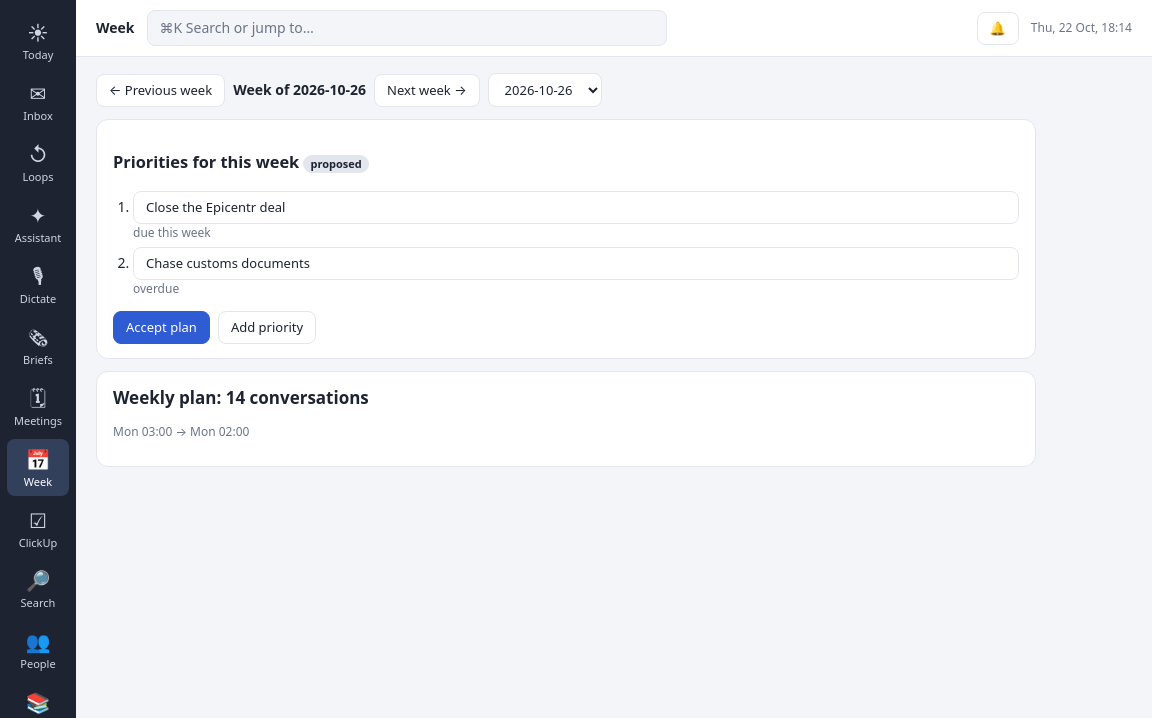
Test: last week's review and plan are shown and the plan can be accepted
The width and height of the screenshot is (1152, 718).
Expected: the field showing "Close the Epicentr deal" is shown, [133,191,1019,224]
Click the button "Accept plan": (161, 328) [113,311,210,344]
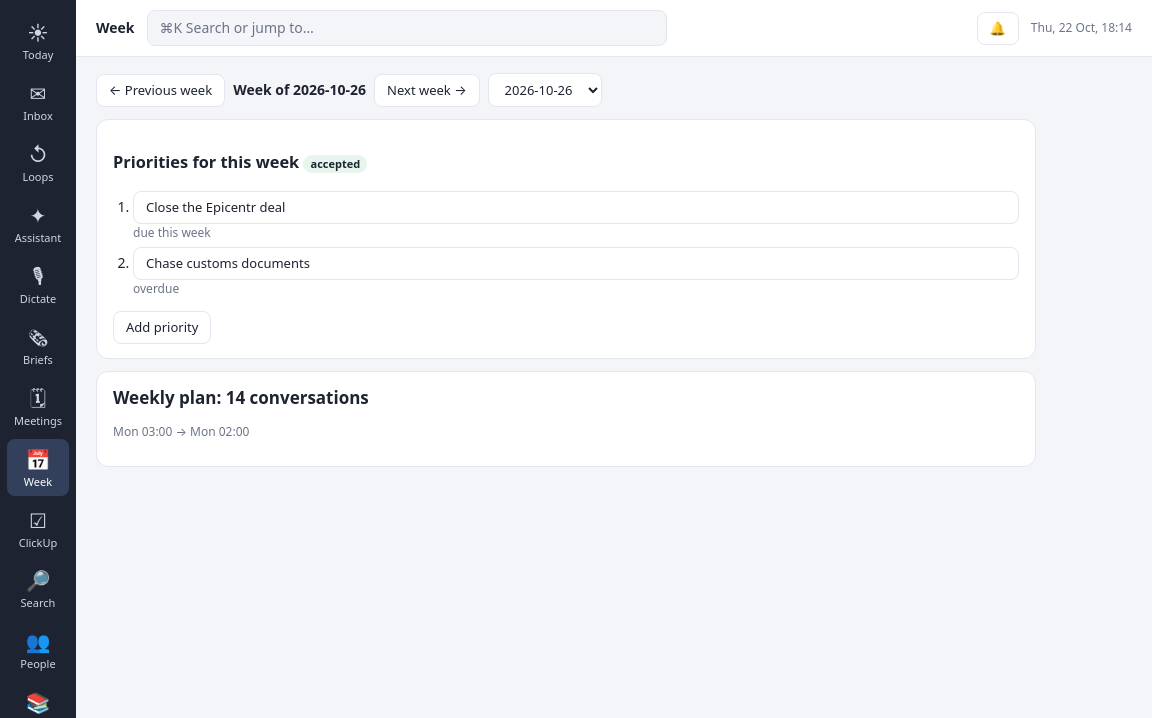
Expected: the text "accepted" is shown, [304,155,367,173]
Click the button "← Previous week": (161, 90) [96,74,225,107]
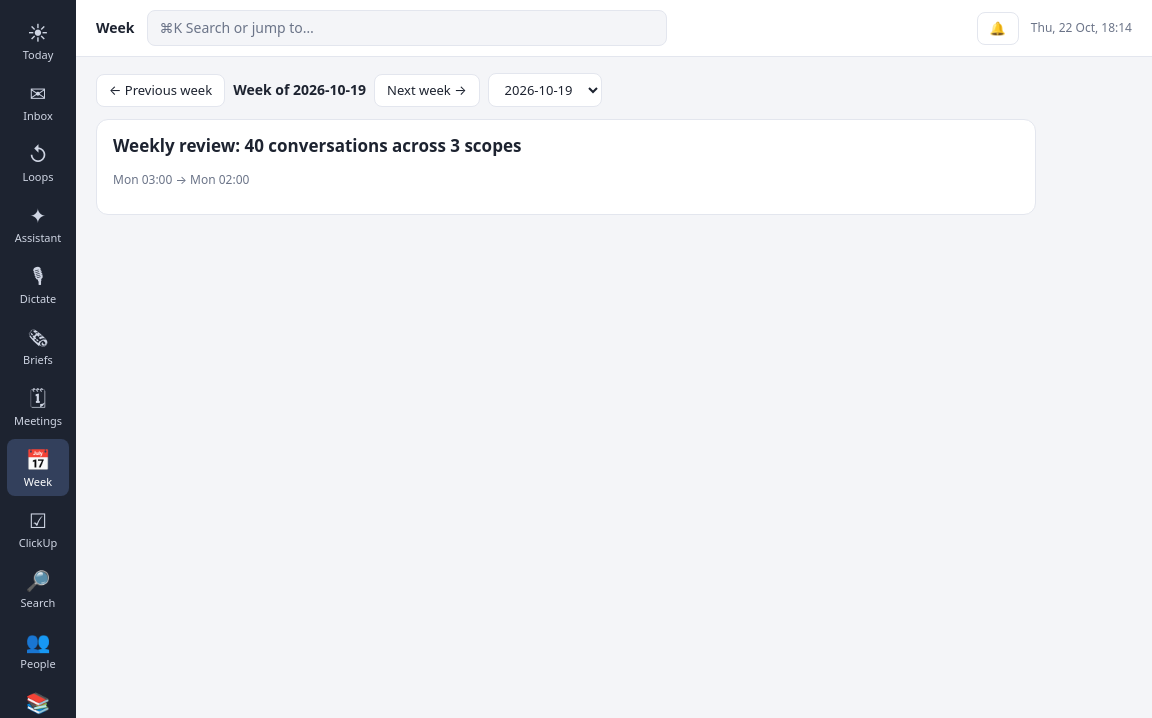
Expected: the heading "Weekly review: 40 conversations across 3 scopes" is shown, [113,134,521,157]
